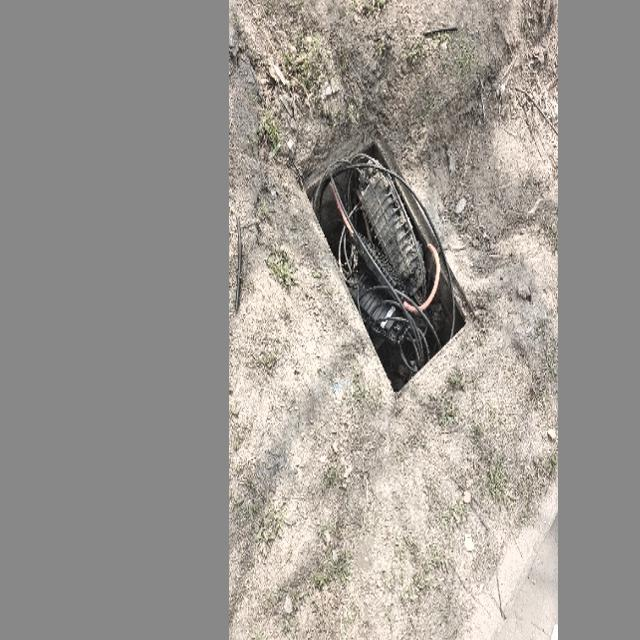lose: (295, 131, 476, 398)
